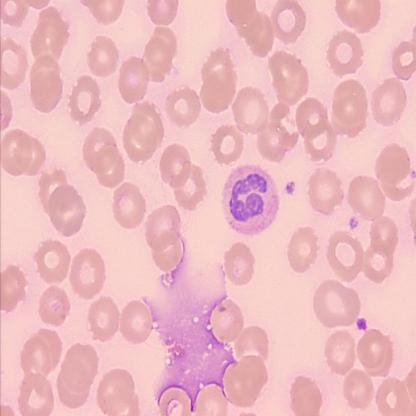Segmented neutrophil: (221, 162, 280, 236)
